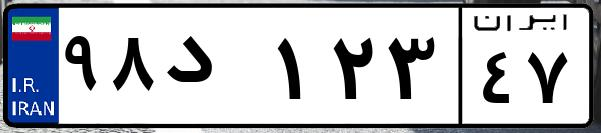1: (270, 28, 330, 110)
2: (330, 28, 385, 110)
3: (385, 28, 445, 110)
4: (475, 38, 525, 113)
7: (525, 38, 570, 115)
8: (110, 28, 158, 98)
9: (57, 26, 110, 100)
د: (158, 20, 270, 120)
